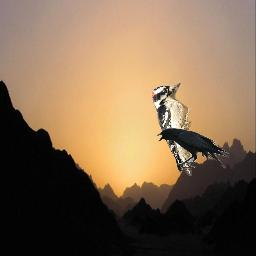Crow: (156, 128, 230, 169)
Woodpecker: (151, 83, 192, 176)
